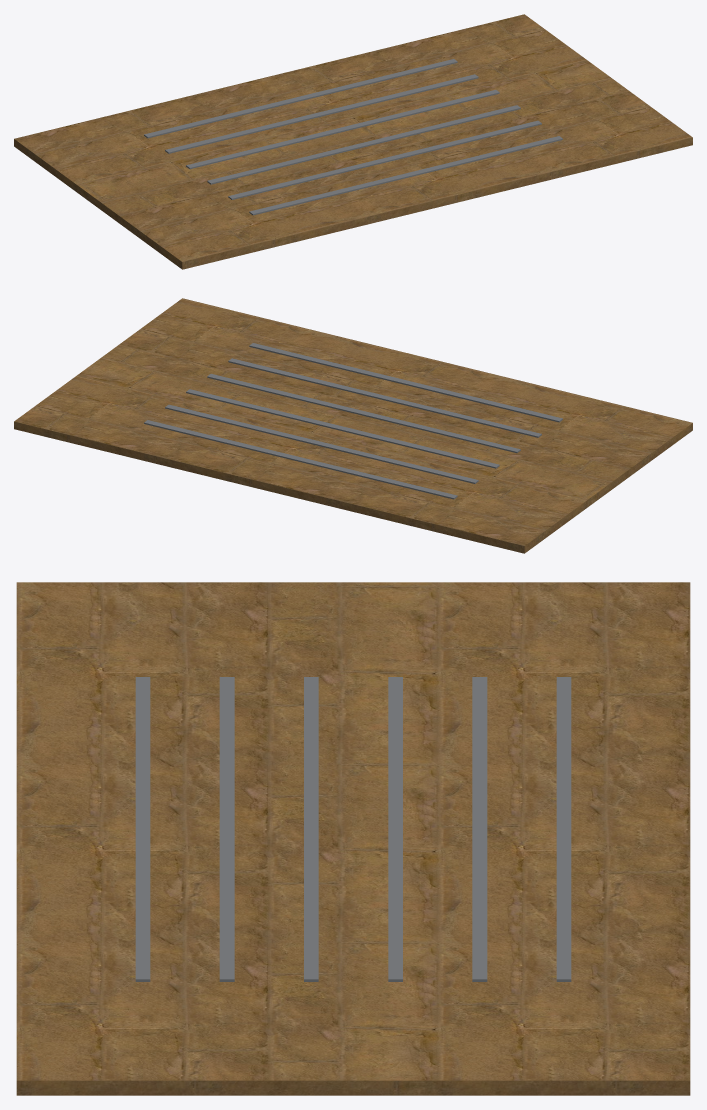
File: tabuas.glb
The picture shows the model from 3 angles, top to bottom: view 1: azimuth 30°, elevation 25°; view 2: azimuth 150°, elevation 25°; view 3: azimuth 270°, elevation 25°; orthographic projection. The views are drawn at different scales.
Visible parts, largest first — view 1: Superfície de escrita, Linha simbólica sem texto.003, Linha simbólica sem texto.005, Linha simbólica sem texto.001, Linha simbólica sem texto.002, Linha simbólica sem texto, Linha simbólica sem texto.004; view 2: Superfície de escrita, Linha simbólica sem texto, Linha simbólica sem texto.002, Linha simbólica sem texto.003, Linha simbólica sem texto.004, Linha simbólica sem texto.005, Linha simbólica sem texto.001; view 3: Superfície de escrita, Linha simbólica sem texto, Linha simbólica sem texto.001, Linha simbólica sem texto.004, Linha simbólica sem texto.005, Linha simbólica sem texto.002, Linha simbólica sem texto.003.
Part boxes in pixels (bbox=[...]): Superfície de escrita: bbox=[14, 14, 692, 269]; Linha simbólica sem texto.003: bbox=[207, 105, 520, 184]; Linha simbólica sem texto.005: bbox=[249, 136, 562, 215]; Linha simbólica sem texto.001: bbox=[165, 74, 478, 153]; Linha simbólica sem texto.002: bbox=[186, 90, 499, 169]; Linha simbólica sem texto: bbox=[144, 59, 457, 138]; Linha simbólica sem texto.004: bbox=[228, 120, 541, 199]; Superfície de escrita: bbox=[14, 298, 692, 553]; Linha simbólica sem texto: bbox=[144, 420, 457, 499]; Linha simbólica sem texto.002: bbox=[186, 389, 499, 468]; Linha simbólica sem texto.003: bbox=[207, 374, 520, 453]; Linha simbólica sem texto.004: bbox=[228, 358, 541, 437]; Linha simbólica sem texto.005: bbox=[249, 343, 562, 422]; Linha simbólica sem texto.001: bbox=[165, 404, 478, 483]; Superfície de escrita: bbox=[16, 582, 690, 1095]; Linha simbólica sem texto: bbox=[556, 677, 571, 981]; Linha simbólica sem texto.001: bbox=[472, 677, 487, 981]; Linha simbólica sem texto.004: bbox=[219, 677, 234, 981]; Linha simbólica sem texto.005: bbox=[135, 677, 150, 981]; Linha simbólica sem texto.002: bbox=[388, 677, 402, 981]; Linha simbólica sem texto.003: bbox=[304, 677, 318, 981].
Size of the model in its own units: 2.8 by 0.0485 by 1.6.
2 materials, 1 textured.
